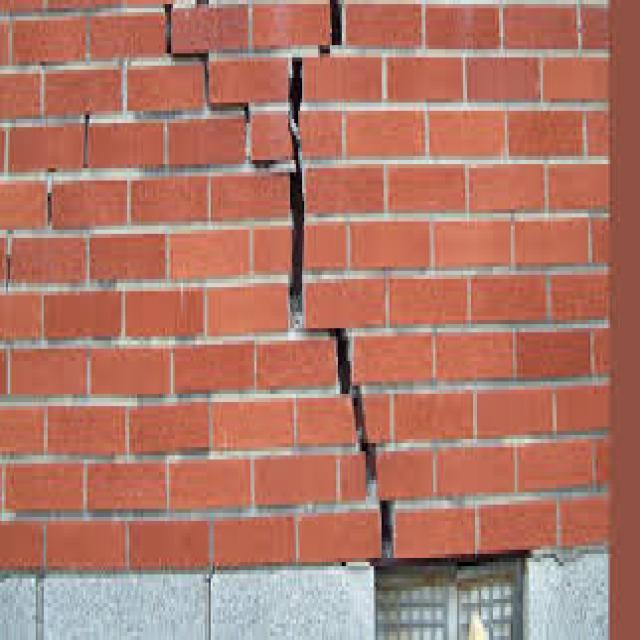Crack: (157, 0, 400, 558), (0, 106, 91, 291)
